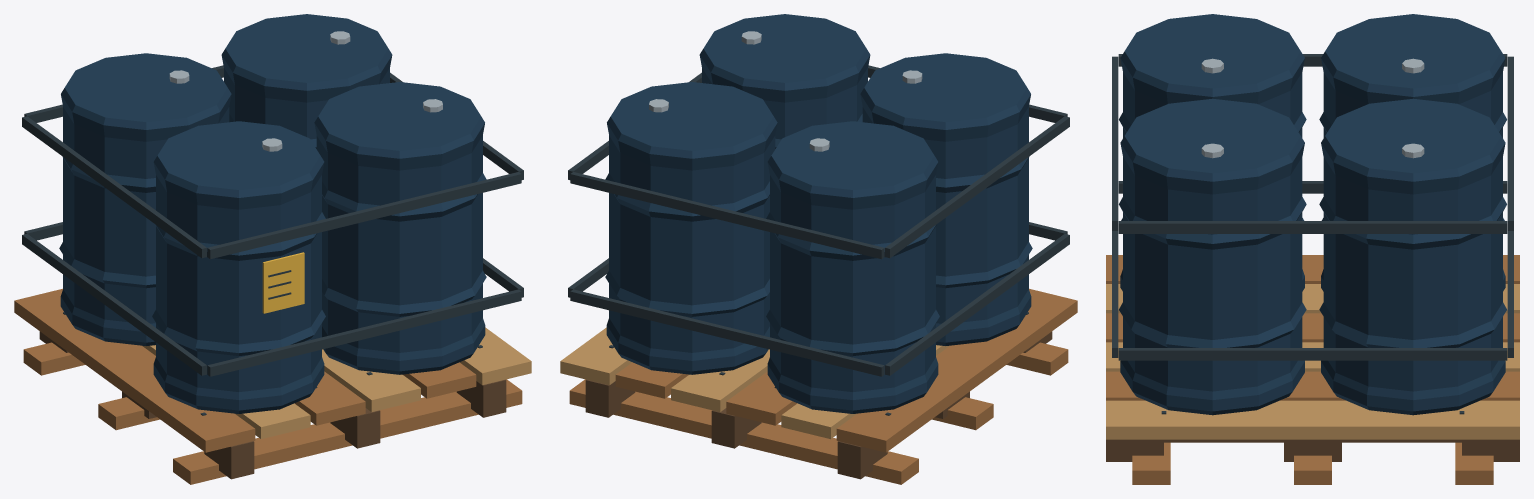
File: b14_pallet_four_chemical_drums.glb
The picture shows the model from 3 angles, left to right: view 1: azimuth 30°, elevation 25°; view 2: azimuth 150°, elevation 25°; view 3: azimuth 270°, elevation 25°; orthographic projection. The views are drawn at different scales.
Visible parts, largest first — view 1: b14_pallet_four_chemical_drums; view 2: b14_pallet_four_chemical_drums; view 3: b14_pallet_four_chemical_drums.
Part boxes in pixels (x1=…): b14_pallet_four_chemical_drums: x1=14, y1=14, x2=531, y2=484; b14_pallet_four_chemical_drums: x1=560, y1=14, x2=1077, y2=484; b14_pallet_four_chemical_drums: x1=1106, y1=14, x2=1519, y2=484.
Bounding box in the file's own units: 1.3 × 1.07 × 1.3.
